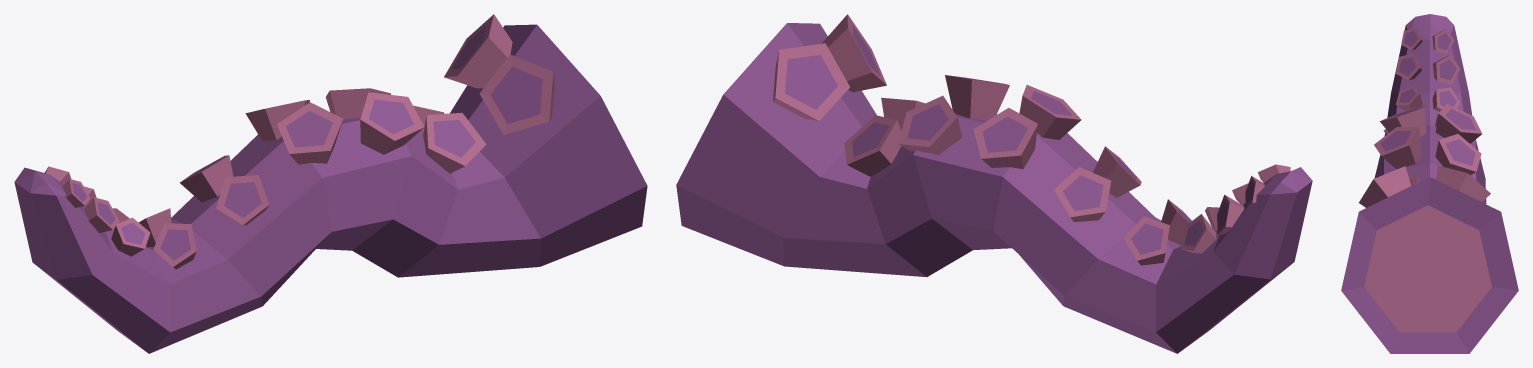
The model's file is Tentacle.glb.
The picture shows the model from 3 angles, left to right: view 1: azimuth 30°, elevation 25°; view 2: azimuth 150°, elevation 25°; view 3: azimuth 270°, elevation 25°; orthographic projection. The views are drawn at different scales.
Visible parts, largest first — view 1: Tentacle; view 2: Tentacle; view 3: Tentacle.
Boxes of the visible parts, left/top/right/bottom form: Tentacle: left=14, top=14, right=647, bottom=353; Tentacle: left=676, top=14, right=1312, bottom=353; Tentacle: left=1341, top=14, right=1518, bottom=353.
Size of the model in its own units: 0.0838 by 0.0303 by 0.0294.
